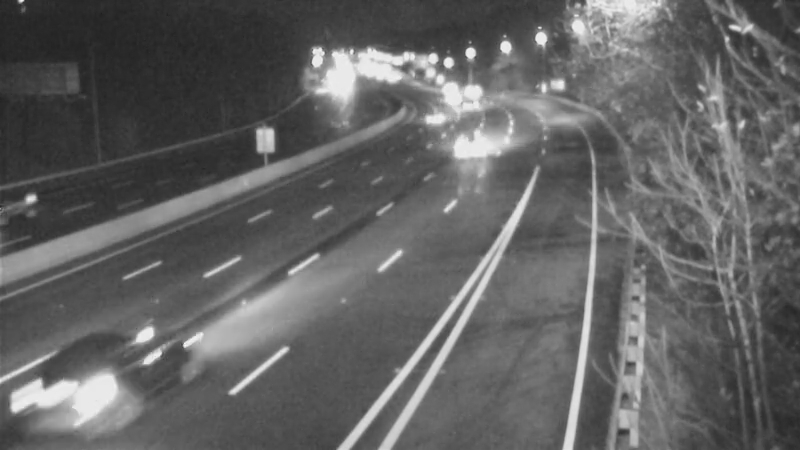vehicle: (10, 343, 120, 450), (1, 168, 73, 248), (445, 62, 495, 112), (408, 90, 458, 140), (452, 119, 502, 169)
